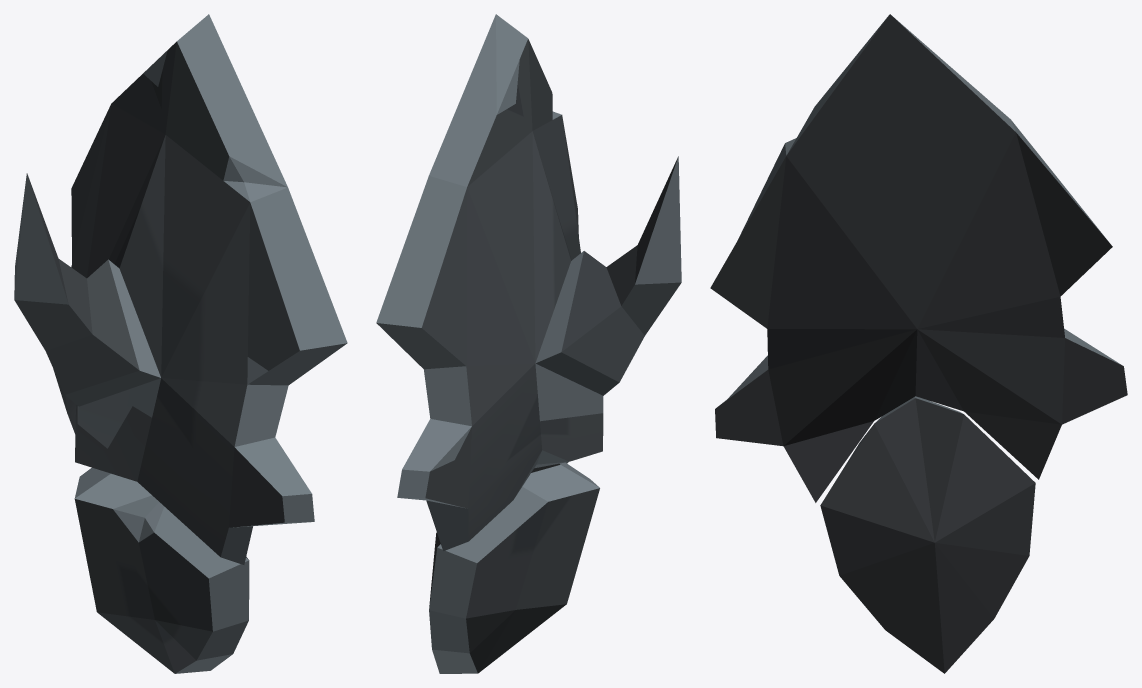
File: SM_Chr_Attach_Armour_Dark_Leg_FR_Large_01.fbx
3 views of the same model, side by side, from view 1: azimuth 30°, elevation 25°; view 2: azimuth 150°, elevation 25°; view 3: azimuth 270°, elevation 25° (orthographic). The views are drawn at different scales.
Visible parts, largest first — view 1: SM_Chr_Attach_Armour_Dark_Leg_FR_Large_01; view 2: SM_Chr_Attach_Armour_Dark_Leg_FR_Large_01; view 3: SM_Chr_Attach_Armour_Dark_Leg_FR_Large_01.
Boxes of the visible parts, x1,y1,x2,y2 form: SM_Chr_Attach_Armour_Dark_Leg_FR_Large_01: [14, 14, 347, 673]; SM_Chr_Attach_Armour_Dark_Leg_FR_Large_01: [376, 14, 681, 673]; SM_Chr_Attach_Armour_Dark_Leg_FR_Large_01: [710, 14, 1127, 673].
Bounding box in the file's own units: 11.9 × 32.62 × 19.11.
